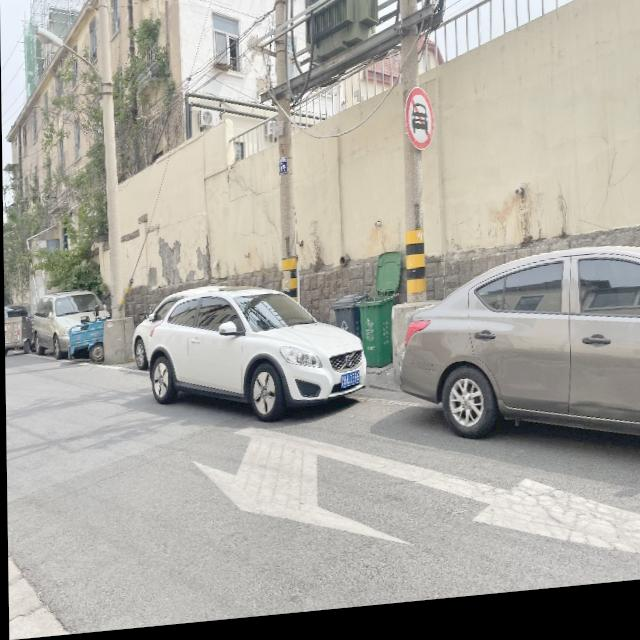garbage_bin: (355, 301, 397, 375), (328, 299, 365, 348)
